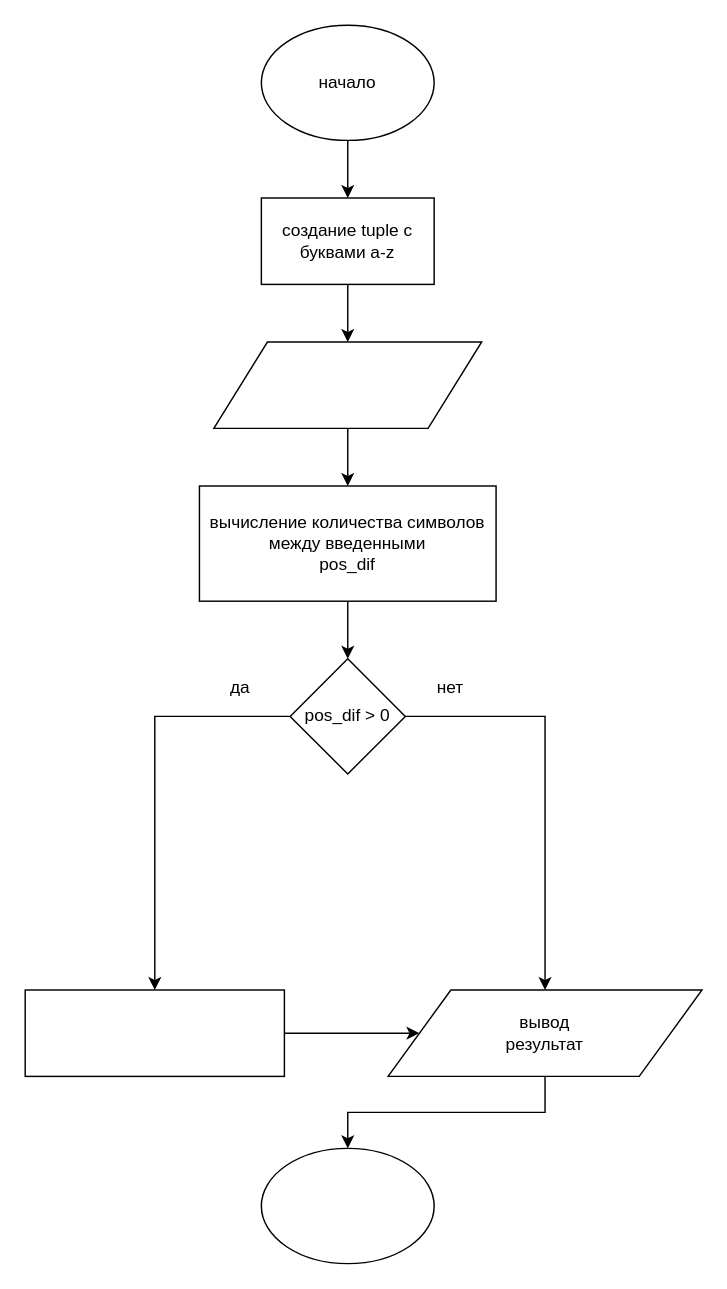
Image size: 727x1289. Some labels were removed from this diagram. The centre of each missing label's shape, as x and y in pixels:
"ввод char_1, char_2" goes at point 347,384.
"конец" goes at point 347,1205.
"уменьшаем pos_dif для обращения к индексу tuple" goes at point 154,1032.
